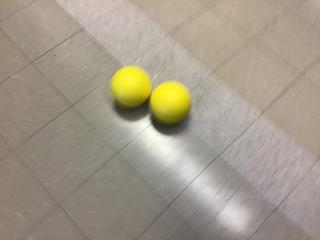power_cell: (149, 80, 193, 127), (111, 64, 153, 110)
